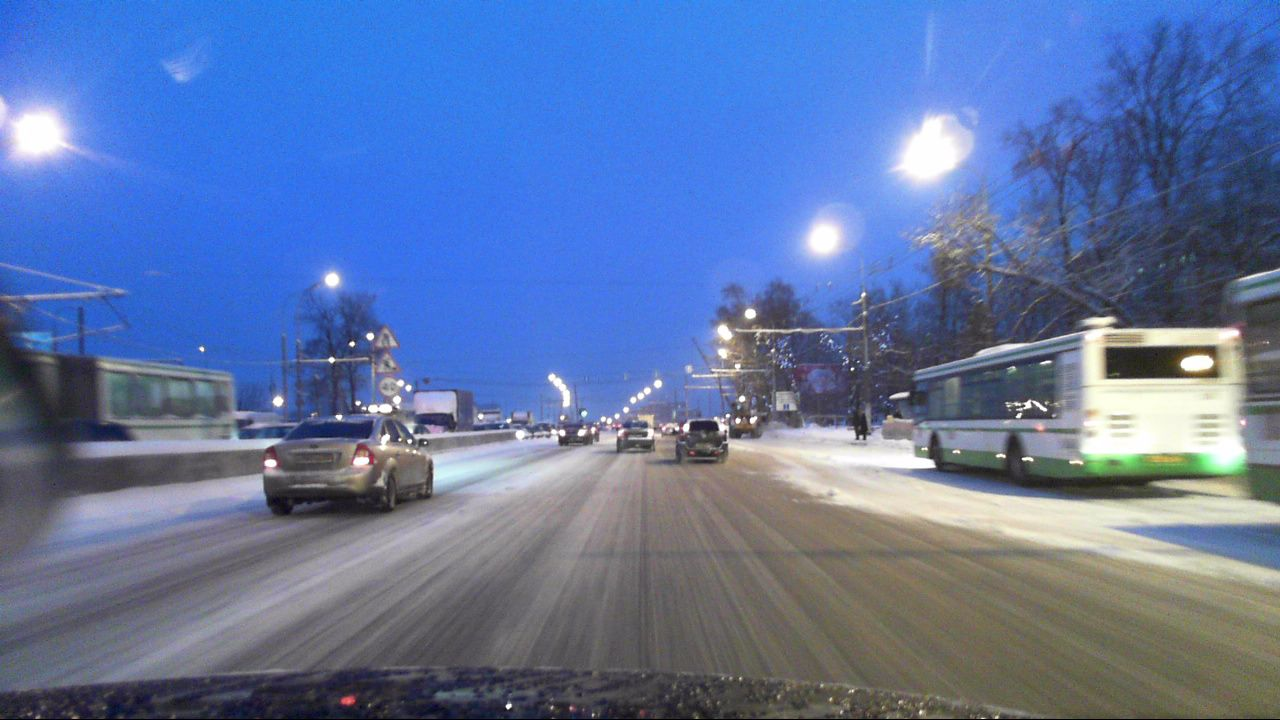speed_warning_40: (377, 375, 401, 396)
